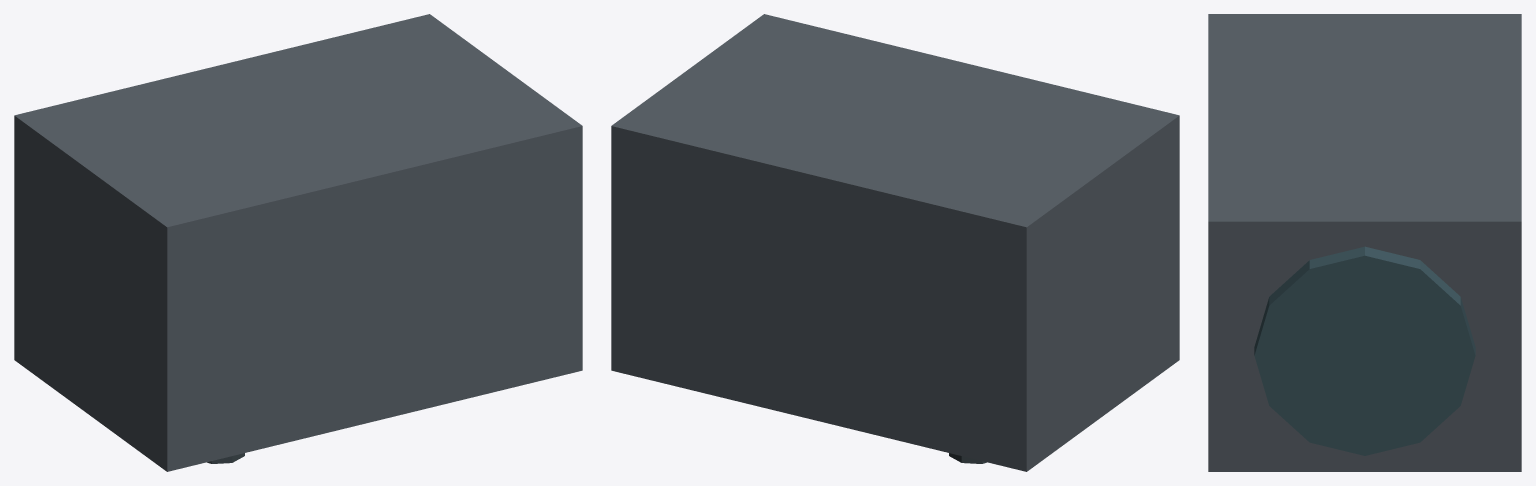
File: GEN_SONAR_MINE_T4_LOD1.fbx
The picture shows the model from 3 angles, left to right: view 1: azimuth 30°, elevation 25°; view 2: azimuth 150°, elevation 25°; view 3: azimuth 270°, elevation 25°; orthographic projection. The views are drawn at different scales.
Visible parts, largest first — view 1: SEN_GEN_SONAR_MINE_T4_LOD1; view 2: SEN_GEN_SONAR_MINE_T4_LOD1; view 3: SEN_GEN_SONAR_MINE_T4_LOD1.
Boxes of the visible parts, x1=… form: SEN_GEN_SONAR_MINE_T4_LOD1: x1=14, y1=14, x2=582, y2=471; SEN_GEN_SONAR_MINE_T4_LOD1: x1=611, y1=14, x2=1179, y2=471; SEN_GEN_SONAR_MINE_T4_LOD1: x1=1208, y1=14, x2=1521, y2=471.
Size of the model in its own units: 1.67 by 1.02 by 0.99.
